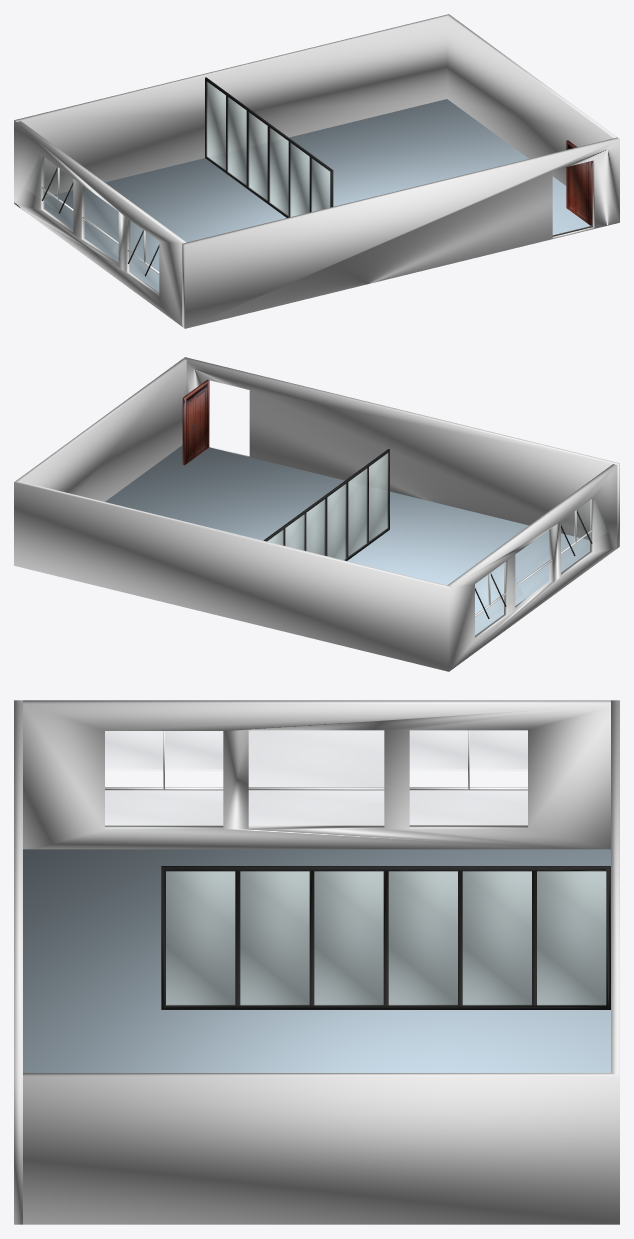
3 views of the same model, one above another, from view 1: azimuth 30°, elevation 25°; view 2: azimuth 150°, elevation 25°; view 3: azimuth 270°, elevation 25° (orthographic). The views are drawn at different scales.
Visible parts, largest first — view 1: Line001, Rectangle003, Rectangle040, roolwindow, Rectangle034, rool, door001, Rectangle033; view 2: Line001, Rectangle003, Rectangle040, roolwindow, Rectangle034, door001, rool, Rectangle033; view 3: Rectangle003, Line001, roolwindow, Rectangle040, Rectangle034, rool, Rectangle033.
Boxes of the visible parts, x1=… form: Line001: x1=14, y1=14, x2=619, y2=328; Rectangle003: x1=14, y1=99, x2=592, y2=326; Rectangle040: x1=14, y1=120, x2=186, y2=326; roolwindow: x1=206, y1=81, x2=330, y2=216; Rectangle034: x1=27, y1=156, x2=159, y2=294; rool: x1=205, y1=77, x2=333, y2=217; door001: x1=566, y1=140, x2=592, y2=225; Rectangle033: x1=41, y1=167, x2=159, y2=274; Line001: x1=14, y1=357, x2=619, y2=671; Rectangle003: x1=105, y1=445, x2=617, y2=671; Rectangle040: x1=447, y1=464, x2=617, y2=671; roolwindow: x1=267, y1=453, x2=388, y2=560; Rectangle034: x1=475, y1=499, x2=607, y2=636; door001: x1=182, y1=379, x2=209, y2=465; rool: x1=263, y1=449, x2=389, y2=560; Rectangle033: x1=475, y1=510, x2=592, y2=616; Rectangle003: x1=23, y1=849, x2=610, y2=1072; Line001: x1=14, y1=700, x2=619, y2=1224; roolwindow: x1=166, y1=871, x2=606, y2=1005; Rectangle040: x1=23, y1=700, x2=610, y2=849; Rectangle034: x1=105, y1=731, x2=527, y2=827; rool: x1=161, y1=866, x2=610, y2=1009; Rectangle033: x1=105, y1=730, x2=527, y2=790.
Bounding box in the file's own units: 122 × 21.65 × 80.41.
9 materials, 2 textured.
